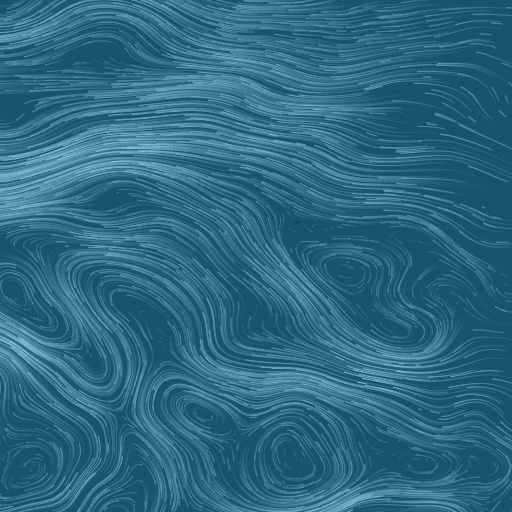eddy: (314, 244, 431, 354), (256, 417, 330, 496), (2, 438, 64, 496), (174, 388, 240, 442), (1, 270, 35, 312), (405, 448, 439, 479)
